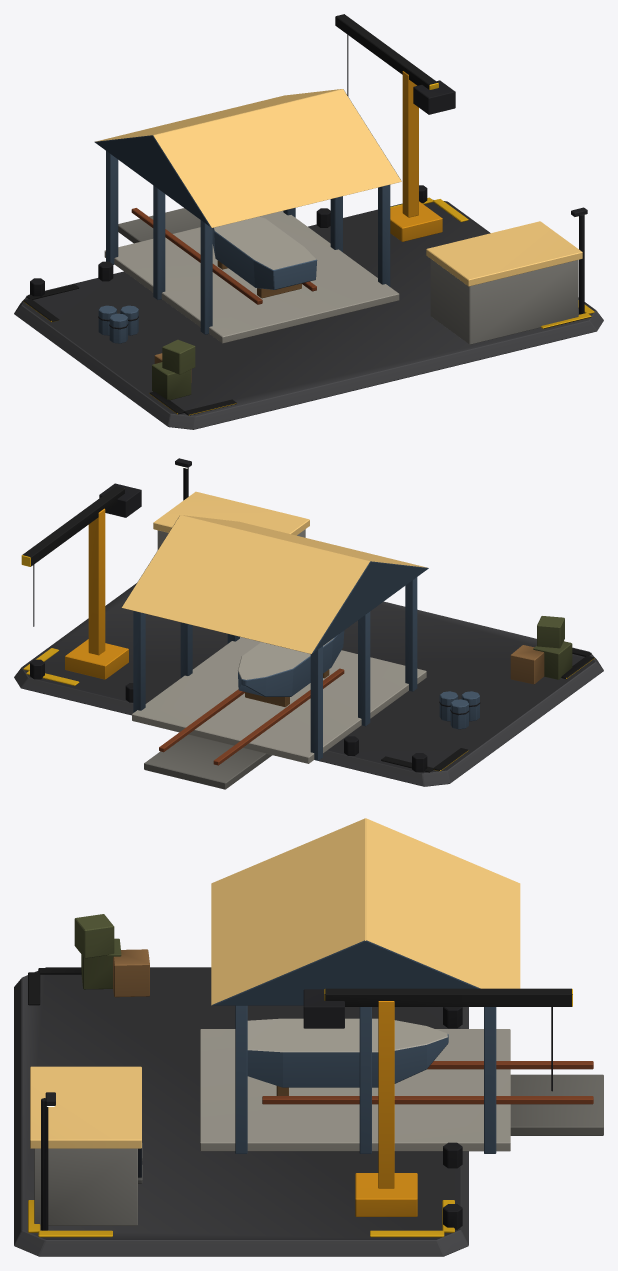
The model's file is shipyard.glb.
3 renders of one model, top to bottom at view 1: azimuth 30°, elevation 25°; view 2: azimuth 150°, elevation 25°; view 3: azimuth 270°, elevation 25°, orthographic. The views are drawn at different scales.
Visible parts, largest first — view 1: shipyard; view 2: shipyard; view 3: shipyard.
Boxes of the visible parts, x1,y1,x2,y2 form: shipyard: [14, 14, 603, 429]; shipyard: [14, 458, 603, 789]; shipyard: [14, 818, 603, 1256].
Bounding box in the file's own units: 3.2 × 1.23 × 2.85.
